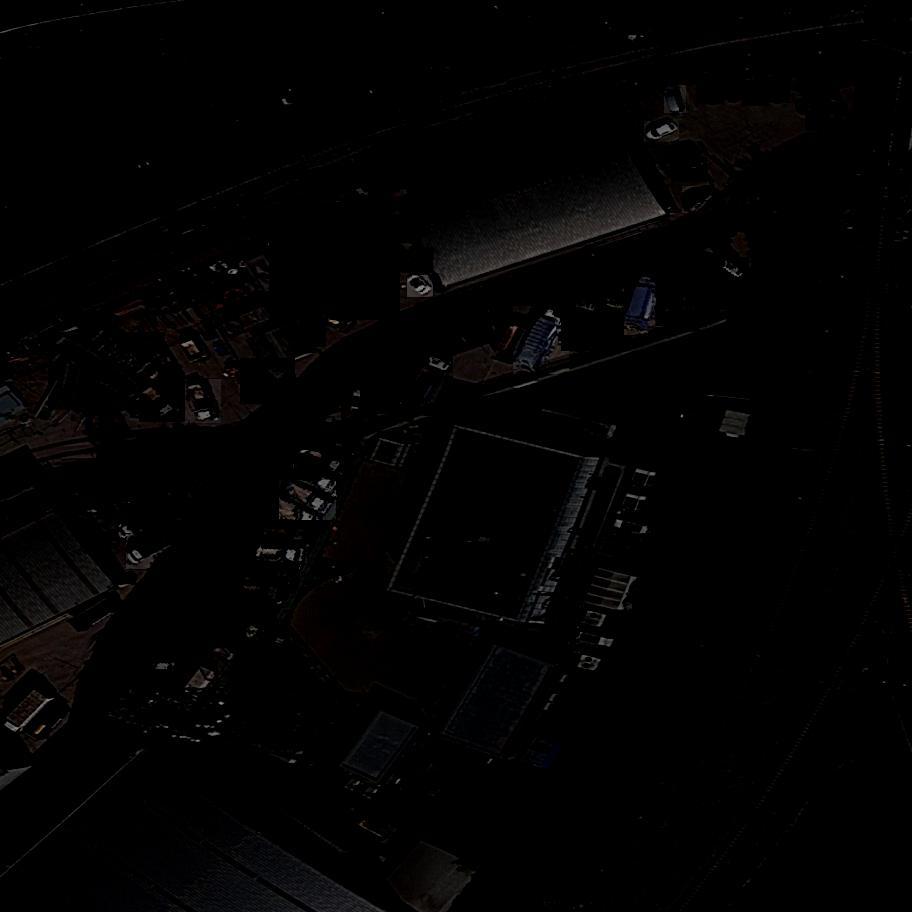large-vehicle: (49, 328, 165, 414), (513, 305, 569, 382), (361, 356, 427, 418), (657, 253, 708, 333), (685, 253, 750, 315), (399, 352, 453, 419), (582, 290, 631, 355), (625, 269, 668, 341), (241, 358, 297, 407), (562, 292, 601, 357), (280, 478, 337, 521), (283, 459, 341, 500), (294, 441, 352, 482), (215, 604, 269, 648), (226, 586, 277, 632), (140, 378, 186, 426), (116, 505, 165, 549), (240, 556, 299, 592), (126, 533, 176, 572), (185, 378, 222, 428), (155, 626, 191, 677), (342, 385, 380, 431), (301, 425, 359, 451), (38, 479, 93, 505), (268, 506, 324, 528), (261, 526, 313, 545), (236, 583, 286, 601), (256, 548, 307, 563)
small-vehicle: (103, 482, 148, 517), (795, 90, 839, 119), (806, 104, 842, 135), (683, 185, 716, 216), (717, 68, 744, 105), (671, 157, 707, 184), (759, 75, 790, 106), (696, 73, 724, 105), (300, 317, 327, 349), (395, 216, 423, 246), (390, 248, 420, 276), (645, 121, 680, 144), (664, 83, 686, 116), (407, 273, 434, 299), (742, 80, 766, 107), (415, 246, 434, 275), (664, 147, 698, 161), (430, 273, 446, 293)
storage-tank: (270, 215, 401, 320)
